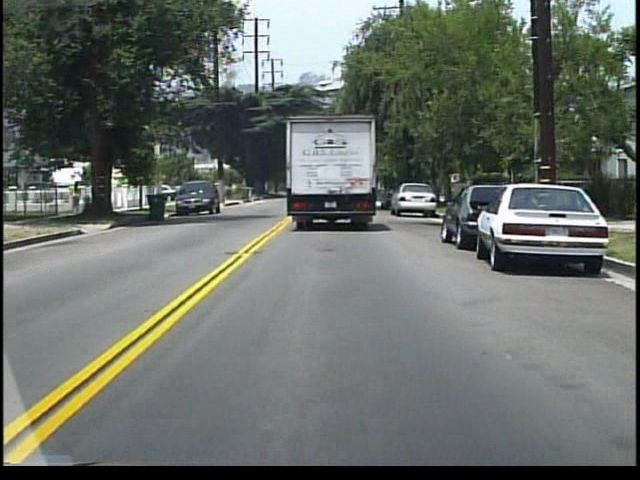person: (73, 180, 86, 216)
